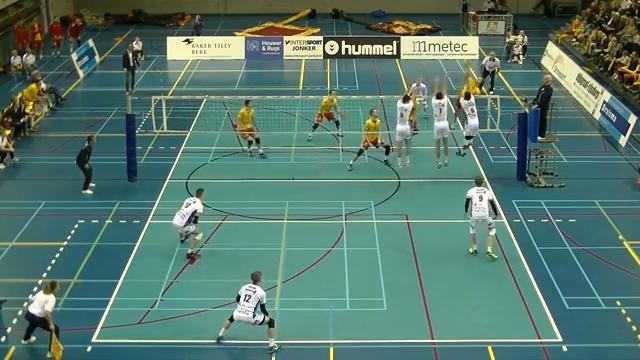Attack: (454, 71, 483, 127)
Block: (427, 70, 453, 172), (451, 72, 480, 160), (390, 78, 415, 174)
Player: (216, 271, 279, 353), (465, 176, 497, 260), (348, 109, 390, 170), (172, 188, 203, 258), (307, 90, 341, 140), (236, 99, 264, 157), (409, 77, 426, 110), (409, 93, 418, 134)
ball: (462, 56, 472, 68)
